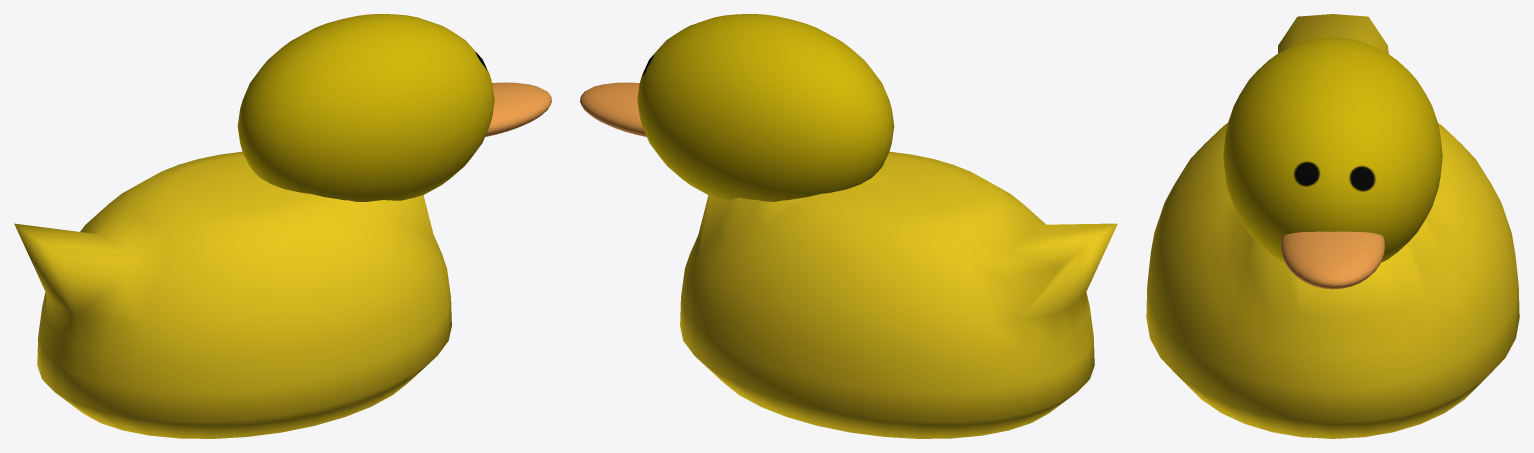
The model's file is duck.glb.
The picture shows the model from 3 angles, left to right: view 1: azimuth 30°, elevation 25°; view 2: azimuth 150°, elevation 25°; view 3: azimuth 270°, elevation 25°; orthographic projection. The views are drawn at different scales.
Parts seen in each view (by area): view 1: Sphere, Sphere.001, Sphere.002; view 2: Sphere, Sphere.001, Sphere.002; view 3: Sphere, Sphere.001, Sphere.002.
Part boxes in pixels (x1=…): Sphere: x1=14, y1=151, x2=451, y2=438; Sphere.001: x1=237, y1=14, x2=494, y2=201; Sphere.002: x1=485, y1=82, x2=551, y2=136; Sphere: x1=680, y1=151, x2=1117, y2=438; Sphere.001: x1=637, y1=14, x2=894, y2=201; Sphere.002: x1=580, y1=82, x2=646, y2=136; Sphere: x1=1146, y1=14, x2=1519, y2=438; Sphere.001: x1=1223, y1=37, x2=1442, y2=262; Sphere.002: x1=1280, y1=231, x2=1385, y2=289.
Size of the model in its own units: 5.9 by 3.47 by 3.26.
Materials: 3 (1 with a texture image).
